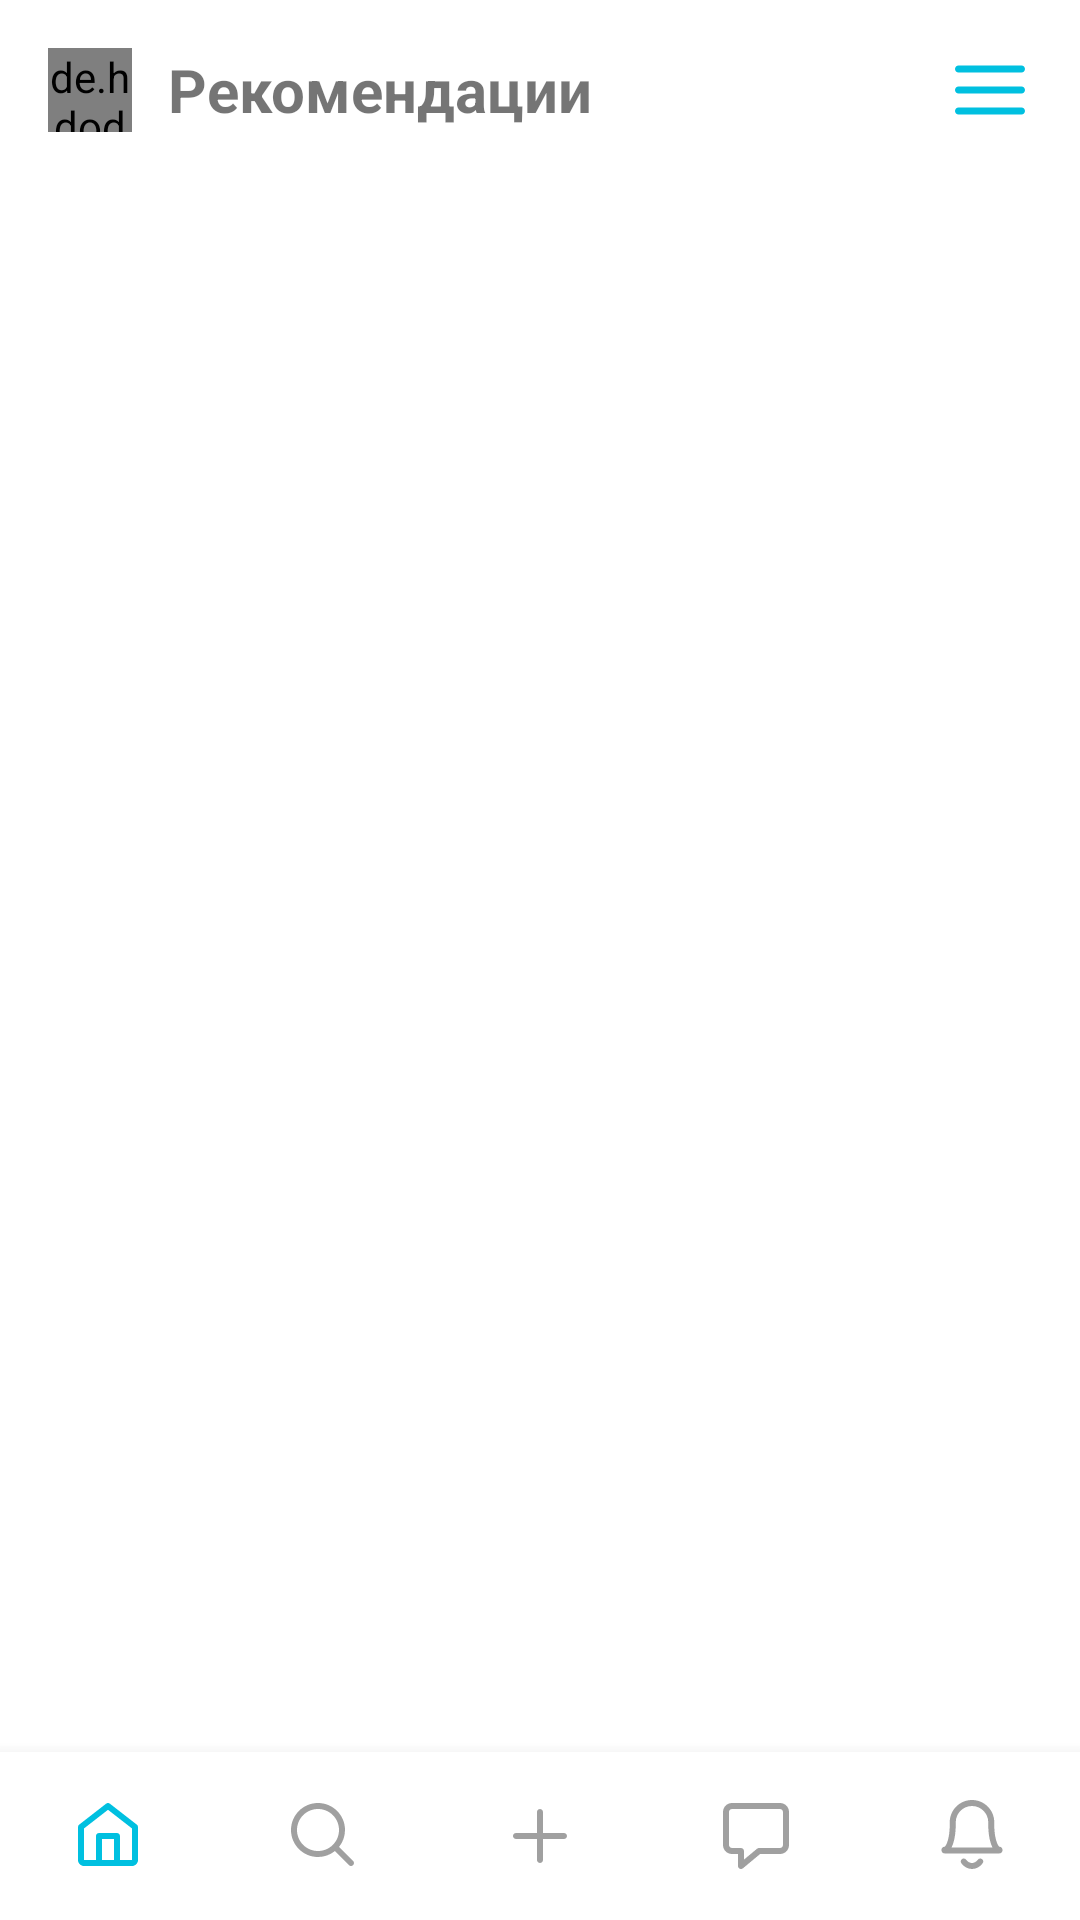

Locate icon controls on the screen. Image size 1080*1920, boxes as (x1, y1, x2, y2).
lines: (955, 65, 1025, 115)
